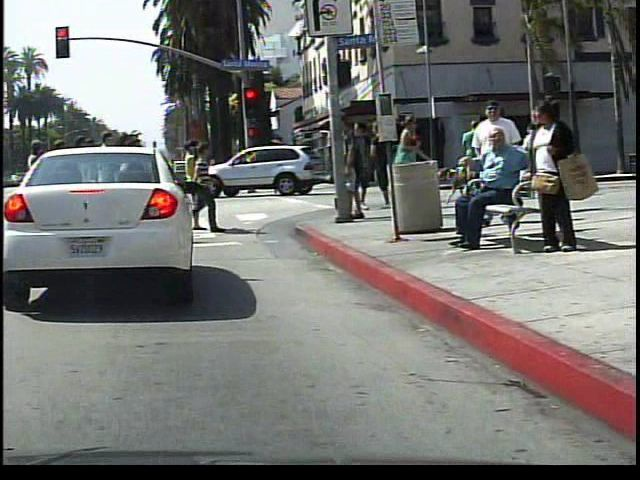person: (439, 128, 532, 259), (517, 98, 583, 267), (383, 109, 429, 211), (264, 146, 290, 197)
